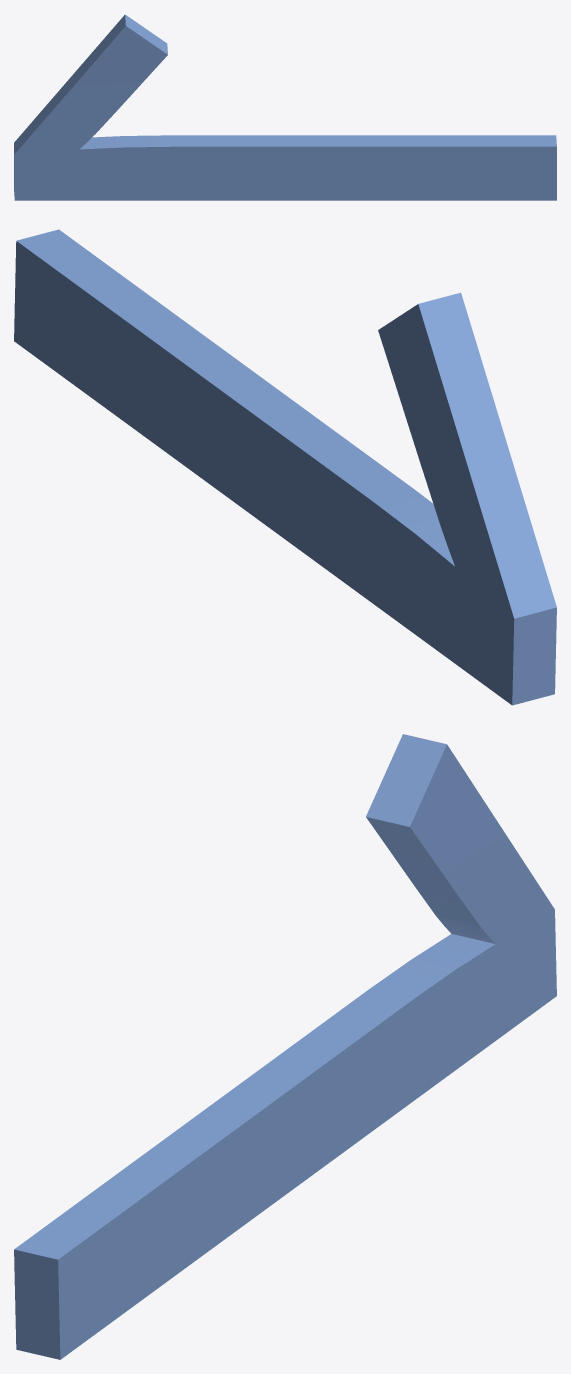
The model's file is New_Number_1.gltf.
3 views of the same model, one above another, from view 1: azimuth 30°, elevation 25°; view 2: azimuth 150°, elevation 25°; view 3: azimuth 270°, elevation 25° (orthographic). The views are drawn at different scales.
Visible parts, largest first — view 1: Part 505; view 2: Part 505; view 3: Part 505.
Part boxes in pixels (x1,y1,x2,y2): Part 505: (14,14,556,200); Part 505: (14,229,556,705); Part 505: (14,734,556,1359).
Bounding box in the file's own units: 0.00449 × 0.00182 × 0.00275.
